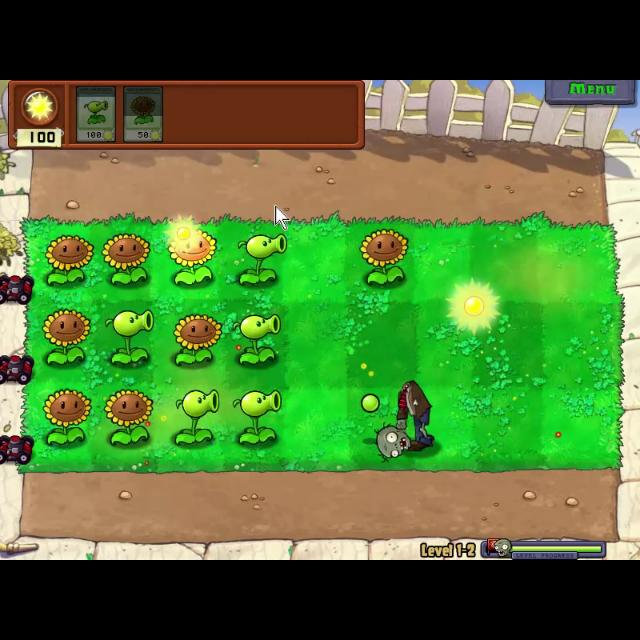Garden: (19, 212, 626, 473)
Menu Button: (544, 80, 636, 104)
Mower: (0, 351, 34, 385), (0, 274, 34, 304), (1, 435, 34, 465)
Peashooter: (76, 86, 116, 144)
Peashooter Seed: (102, 308, 160, 370), (232, 228, 290, 288), (167, 384, 221, 446), (230, 386, 284, 448), (228, 312, 284, 371)
Seed Panel: (5, 80, 368, 152)
Sun: (443, 278, 507, 338), (164, 217, 202, 249)
Sunflower: (122, 85, 166, 143)
Sunflower Seed: (100, 384, 160, 446), (40, 385, 94, 449), (170, 310, 228, 368), (37, 306, 91, 368), (358, 226, 412, 288), (41, 232, 97, 288), (101, 232, 152, 288), (167, 232, 219, 286)
Zombie: (392, 376, 438, 454)
